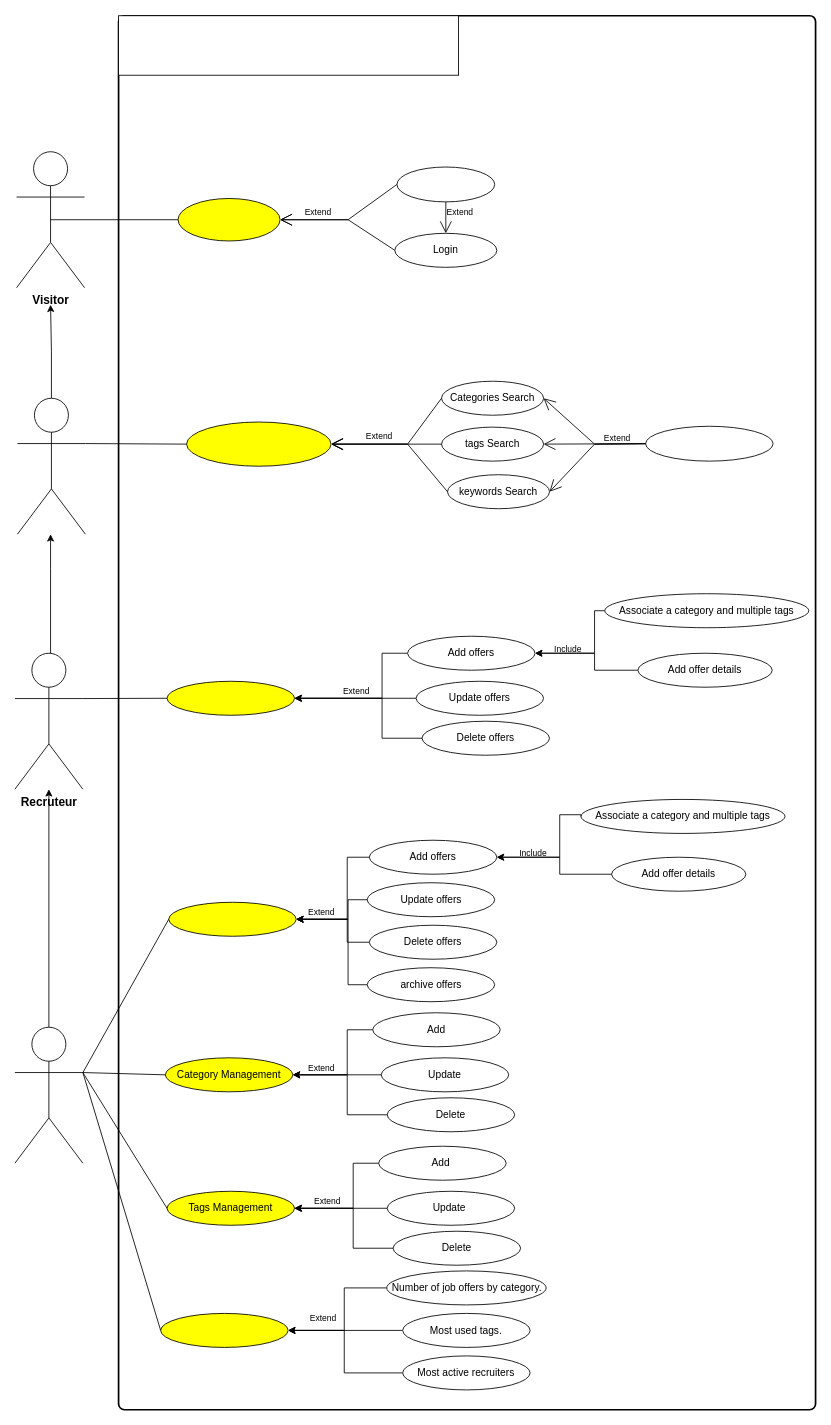
This 831x1425 diagram has some shape labels left out. Here are the shapes that lost their labels. From the top down, the centre of each, then its label:
At (288,45): "Système de gestion de contenu d'une platform CareerLink".
At (445,184): "Create an account".
At (228,219): "view main page".
At (258,443): "Job Search".
At (709,443): "View full details of the offer".
At (51,465): "candidate".
At (230,697): "manage their offers".
At (232,918): "manage all offers".
At (48,1094): "Admin".
At (224,1330): "view statistics".
